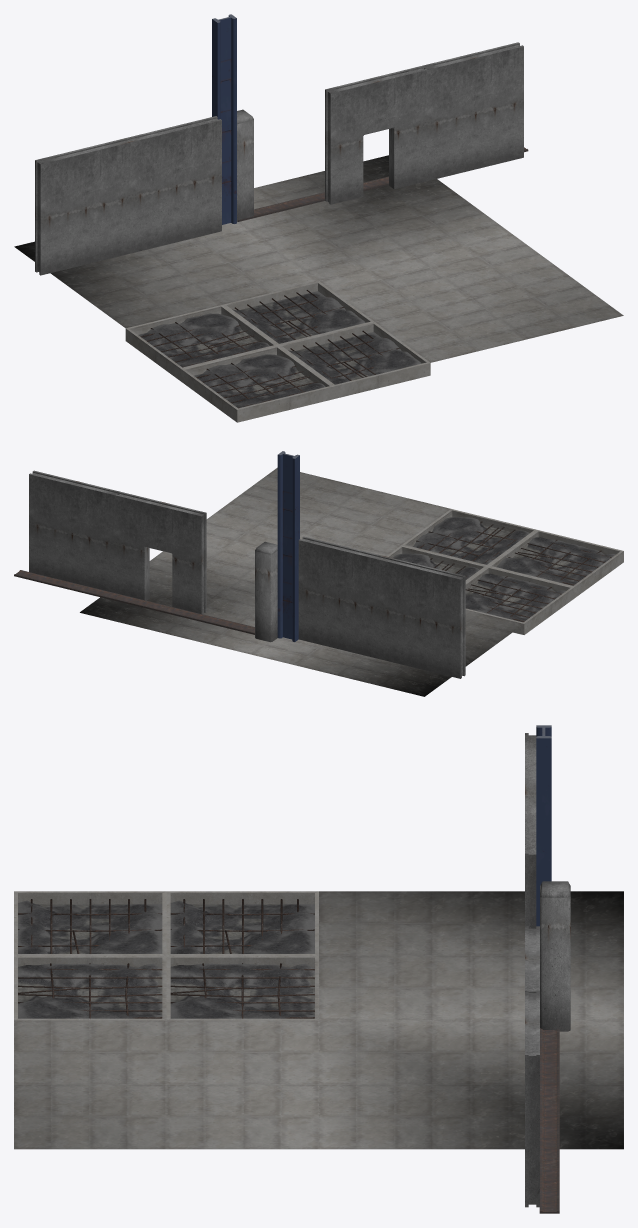
File: BuildingMap_1_2.gltf
The picture shows the model from 3 angles, top to bottom: view 1: azimuth 30°, elevation 25°; view 2: azimuth 150°, elevation 25°; view 3: azimuth 270°, elevation 25°; orthographic projection. The views are drawn at different scales.
Parts seen in each view (by area): view 1: SM_BP_WallCon_8x45, SM_Floors_Plain_21, SM_Floors_Plain_25, SM_Floors_Plain_26, SM_BP_WallCon_4x13, SM_Building_Pieces_Wall4m_Door1, SM_Cement_Cast9, SM_Cement_Cast8, SM_Cement_Cast7, SM_Cement_Cast6, SM_Building_Pieces_2_SteelRudder142, SM_Building_Pieces_ConcretePillar3 (+1 smaller); view 2: SM_BP_WallCon_8x45, SM_Floors_Plain_21, SM_BP_WallCon_4x13, SM_Building_Pieces_Wall4m_Door1, SM_Floors_Plain_25, SM_Floors_Plain_26, SM_Cement_Cast9, SM_Cement_Cast7, SM_Cement_Cast8, SM_Building_Pieces_2_SteelRudder142, SM_Building_Pieces_ConcretePillar3, SM_Cement_Cast6 (+3 smaller); view 3: SM_Floors_Plain_21, SM_Floors_Plain_25, SM_Floors_Plain_26, SM_Cement_Cast8, SM_Cement_Cast6, SM_Cement_Cast7, SM_Cement_Cast9, SM_Building_Pieces_ConcretePillar3, SM_BP_WallCon_4x13, SM_Building_Pieces_2_SteelRudder142, SM_BP_WallCon_8x45, SM_Building_Pieces_2_MetalBorder29 (+3 smaller).
Boxes of the visible parts, <box> form: SM_BP_WallCon_8x45: <box>35,116,221,275</box>; SM_Floors_Plain_21: <box>319,234,623,362</box>; SM_Floors_Plain_25: <box>238,155,511,280</box>; SM_Floors_Plain_26: <box>14,222,318,328</box>; SM_BP_WallCon_4x13: <box>422,42,523,180</box>; SM_Building_Pieces_Wall4m_Door1: <box>325,66,427,204</box>; SM_Cement_Cast9: <box>181,345,333,422</box>; SM_Cement_Cast8: <box>278,322,430,398</box>; SM_Cement_Cast7: <box>125,305,277,381</box>; SM_Cement_Cast6: <box>222,281,373,345</box>; SM_Building_Pieces_2_SteelRudder142: <box>212,14,236,224</box>; SM_Building_Pieces_ConcretePillar3: <box>237,109,253,221</box>; SM_BP_WallCon_8x45: <box>298,536,465,678</box>; SM_Floors_Plain_21: <box>206,467,450,557</box>; SM_BP_WallCon_4x13: <box>29,470,119,592</box>; SM_Building_Pieces_Wall4m_Door1: <box>115,491,206,614</box>; SM_Floors_Plain_25: <box>80,546,268,654</box>; SM_Floors_Plain_26: <box>252,610,523,696</box>; SM_Cement_Cast9: <box>488,530,623,598</box>; SM_Cement_Cast7: <box>465,566,573,634</box>; SM_Cement_Cast8: <box>402,509,536,566</box>; SM_Building_Pieces_2_SteelRudder142: <box>277,451,299,641</box>; SM_Building_Pieces_ConcretePillar3: <box>255,541,277,642</box>; SM_Cement_Cast6: <box>386,545,487,582</box>; SM_Floors_Plain_21: <box>14,1020,318,1149</box>; SM_Floors_Plain_25: <box>319,1020,623,1149</box>; SM_Floors_Plain_26: <box>319,891,623,1020</box>; SM_Cement_Cast8: <box>14,955,166,1020</box>; SM_Cement_Cast6: <box>166,955,318,1020</box>; SM_Cement_Cast7: <box>166,891,318,955</box>; SM_Cement_Cast9: <box>14,891,166,955</box>; SM_Building_Pieces_ConcretePillar3: <box>540,881,570,1031</box>; SM_BP_WallCon_4x13: <box>525,990,539,1207</box>; SM_Building_Pieces_2_SteelRudder142: <box>536,725,551,926</box>; SM_BP_WallCon_8x45: <box>525,733,536,928</box>; SM_Building_Pieces_2_MetalBorder29: <box>539,1146,559,1213</box>.
Size of the model in its own units: 20.4 by 8.62 by 16.
Materials: 7 (7 with a texture image).
